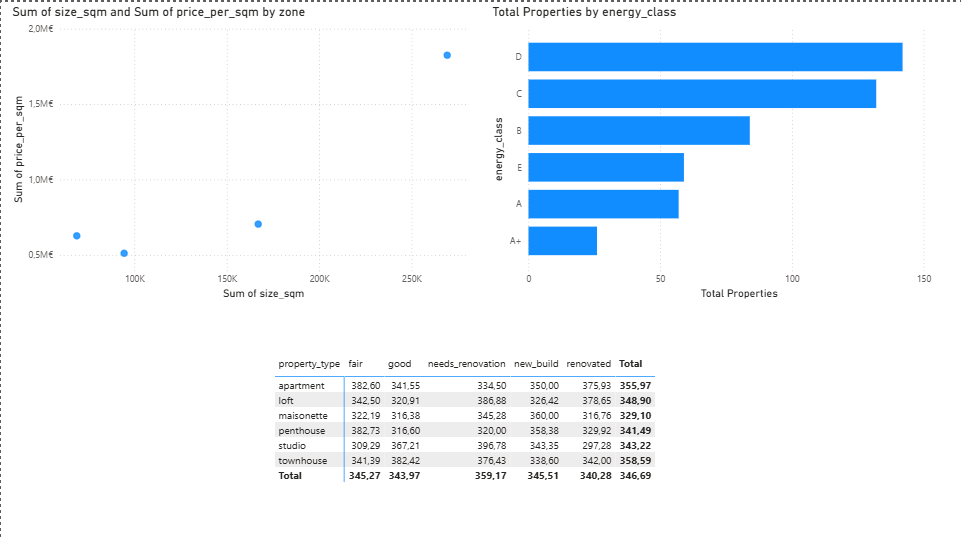

The page's visual inventory and layout, read from the dashboard file:
{"tool":"powerbi","page":{"name":"Page 3","canvas":[1280,720],"ordinal":2},"visuals":[{"type":"scatterChart","fields":{"X":["Sum(PropertyFacts.size_sqm)"],"Y":["Sum(PropertyFacts.price_per_sqm)"],"Category":["PropertyFacts.zone"]},"box":[10,2,630,398],"z":0},{"type":"pivotTable","fields":{"Rows":["PropertyFacts.property_type"],"Columns":["PropertyFacts.condition"],"Values":["_Measures.Avg Gross Yield %"]},"box":[360,466,558,240],"z":1},{"type":"barChart","fields":{"Category":["PropertyFacts.energy_class"],"Y":["_Measures.Total Properties"]},"box":[650,2,630,398],"z":2}]}

Visuals, with their boxes in screenshot pixels (x1, y1, x2, y2), scaled from the page's 1280x720 canvas onto the 961x541 screenshot:
scatterChart - Sum(PropertyFacts.size_sqm) x Sum(PropertyFacts.price_per_sqm): <box>8,2,480,301</box>
pivotTable - PropertyFacts.property_type x PropertyFacts.condition: <box>270,350,689,530</box>
barChart - PropertyFacts.energy_class x _Measures.Total Properties: <box>488,2,960,301</box>
